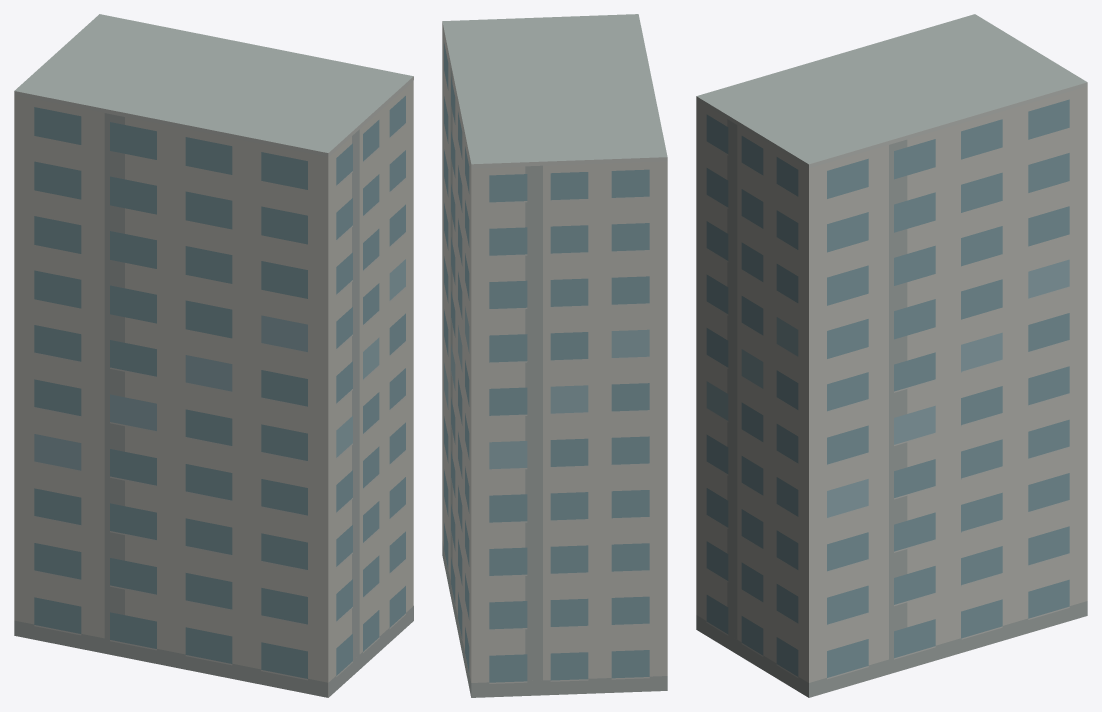
The model's file is residential-100ae5b9-0d1f-4a93-abf4-fff00fc93f86.glb.
3 views of the same model, side by side, from view 1: azimuth 30°, elevation 25°; view 2: azimuth 150°, elevation 25°; view 3: azimuth 270°, elevation 25° (orthographic). The views are drawn at different scales.
Visible parts, largest first — view 1: residential-100ae5b9-0d1f-4a93-abf4-fff00fc93f86.tmp; view 2: residential-100ae5b9-0d1f-4a93-abf4-fff00fc93f86.tmp; view 3: residential-100ae5b9-0d1f-4a93-abf4-fff00fc93f86.tmp.
Boxes of the visible parts, <box> form: residential-100ae5b9-0d1f-4a93-abf4-fff00fc93f86.tmp: <box>14,14,413,697</box>; residential-100ae5b9-0d1f-4a93-abf4-fff00fc93f86.tmp: <box>442,14,667,697</box>; residential-100ae5b9-0d1f-4a93-abf4-fff00fc93f86.tmp: <box>696,14,1087,697</box>.
Bounding box in the file's own units: 19.36 × 32 × 21.28.
